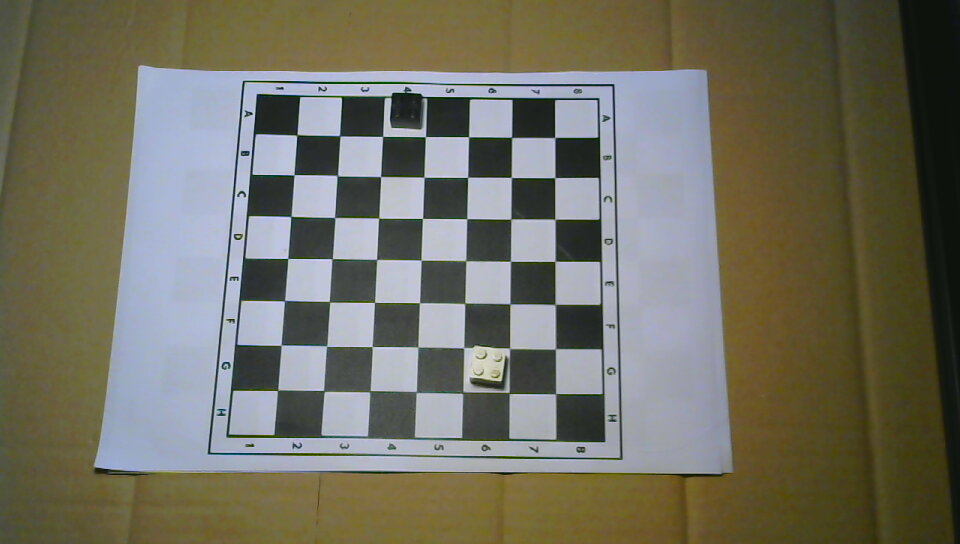bp: (388, 91, 425, 131)
wp: (468, 344, 507, 387)
